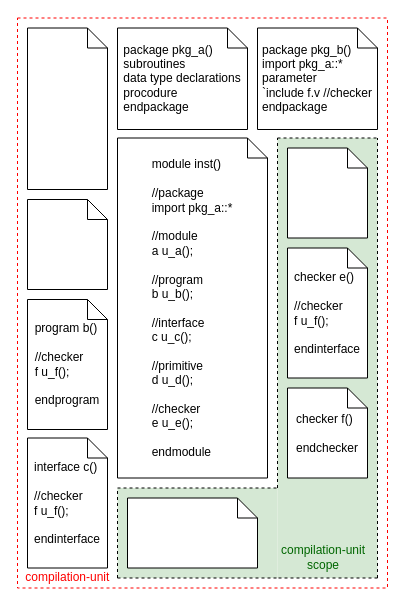
The diagram is 405 pixels wide and 605 high, and some of its shapes have lost their labels. The centre of each missing label's shape, as x and y in pixels:
"config g() design endconfig" belongs at [67,108].
"module a() endmodule" belongs at [67,244].
"primitive d() endprimitive" belongs at [327,192].
"subroutines data type declarations parameters" belongs at [192,532].
